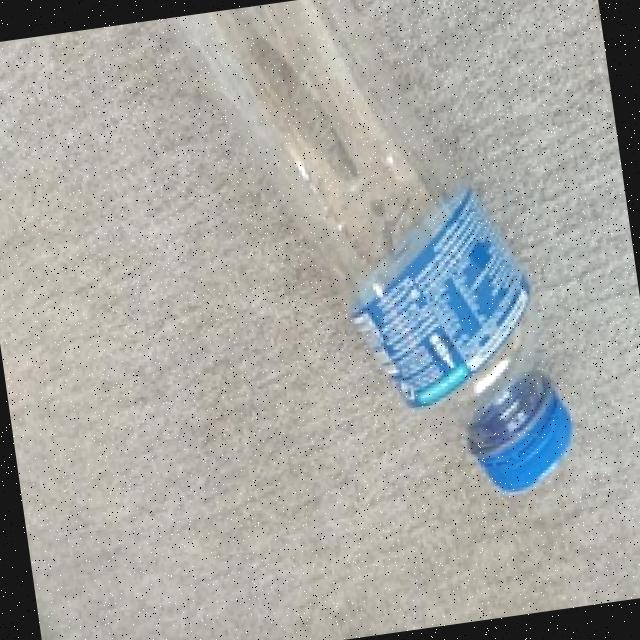bottle: (171, 0, 592, 533)
cap: (466, 410, 588, 492)
label: (337, 180, 553, 426)
